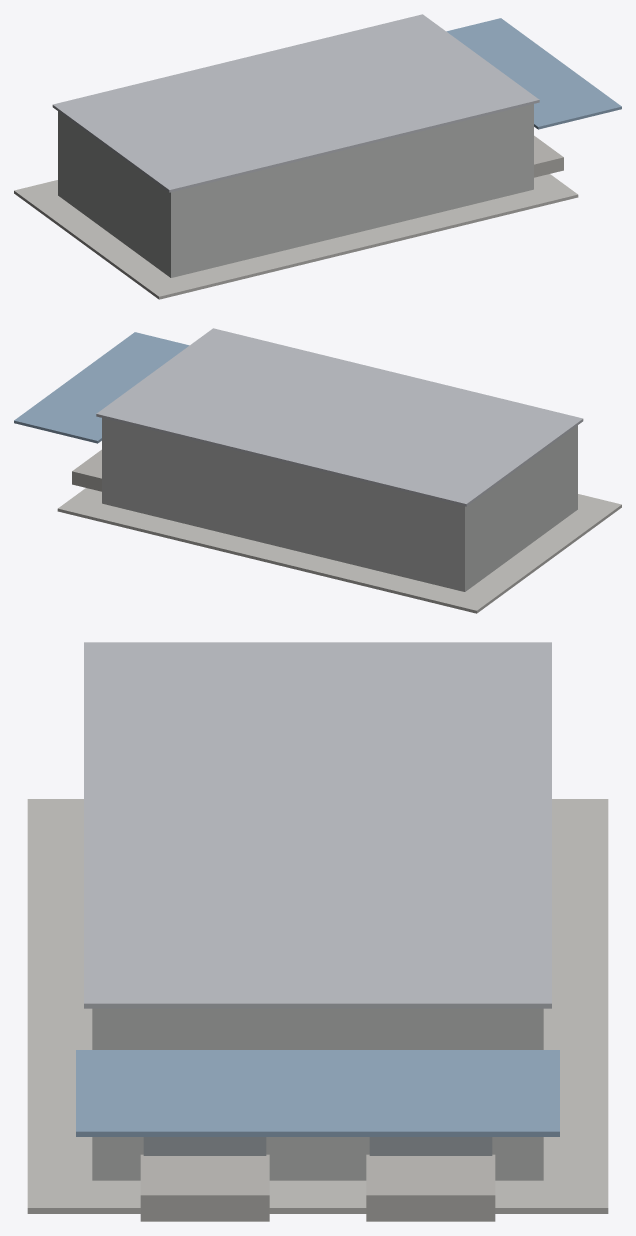
The model's file is 15_industrial_logistics-03.glb.
3 renders of one model, top to bottom at view 1: azimuth 30°, elevation 25°; view 2: azimuth 150°, elevation 25°; view 3: azimuth 270°, elevation 25°, orthographic. The views are drawn at different scales.
Size of the model in its own units: 34 by 6.38 by 18.
